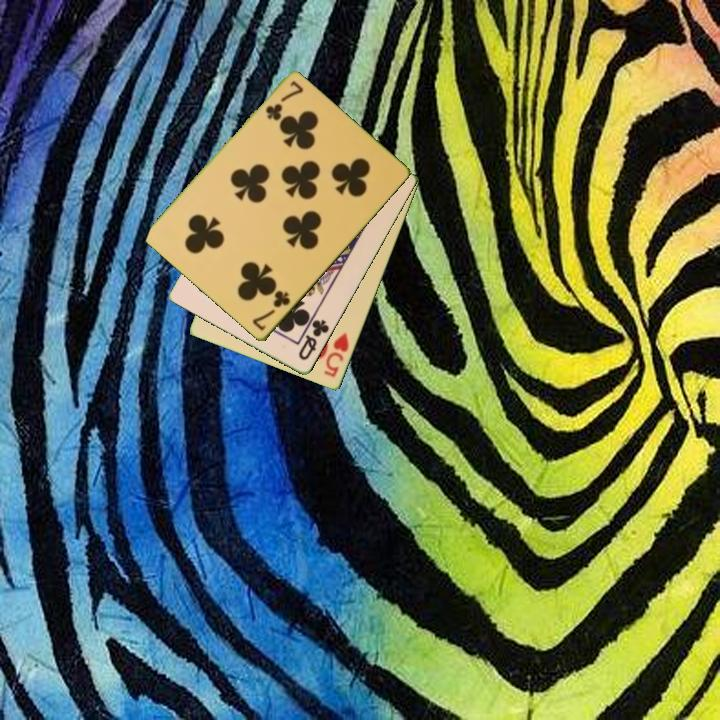5h: (321, 329, 352, 381)
7c: (249, 287, 293, 334), (262, 77, 305, 123)
Qc: (295, 316, 332, 364)
